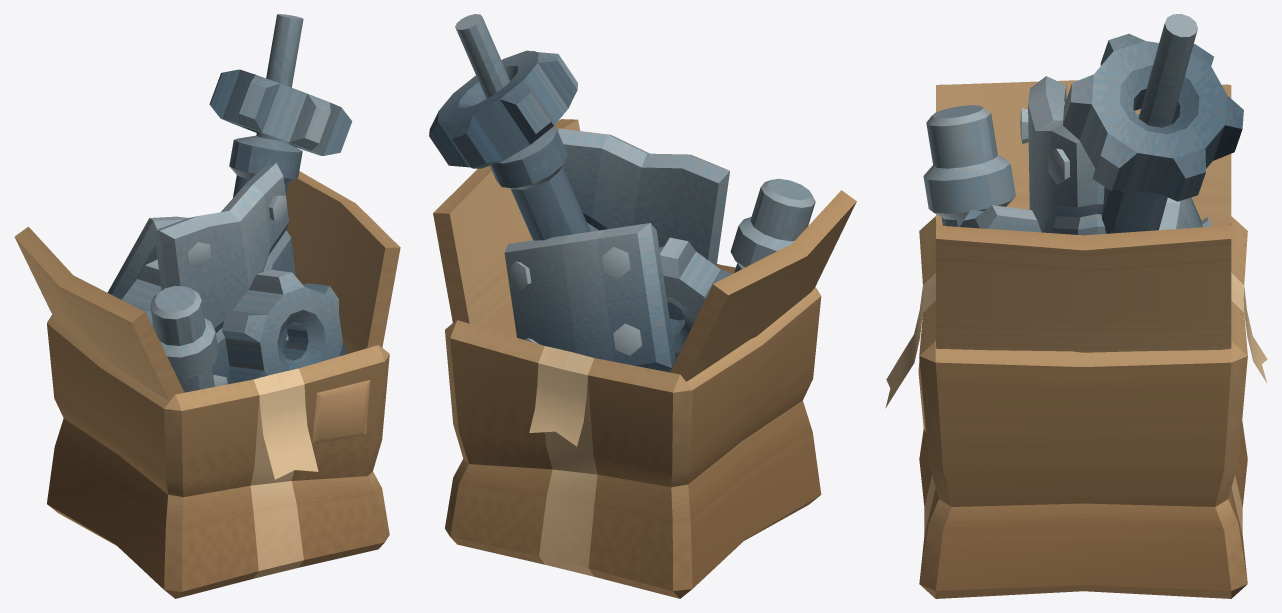
Rendered from Parts_Pile_Medium.gltf.
3 views of the same model, side by side, from view 1: azimuth 30°, elevation 25°; view 2: azimuth 150°, elevation 25°; view 3: azimuth 270°, elevation 25° (orthographic). The views are drawn at different scales.
Parts seen in each view (by area): view 1: Parts_Pile_Medium; view 2: Parts_Pile_Medium; view 3: Parts_Pile_Medium.
Part boxes in pixels (left/top/right/bottom): Parts_Pile_Medium: left=14, top=14, right=400, bottom=598; Parts_Pile_Medium: left=429, top=14, right=856, bottom=598; Parts_Pile_Medium: left=885, top=14, right=1267, bottom=598.
Size of the model in its own units: 1.02 by 1.47 by 0.8726.
Materials: 1 (1 with a texture image).
